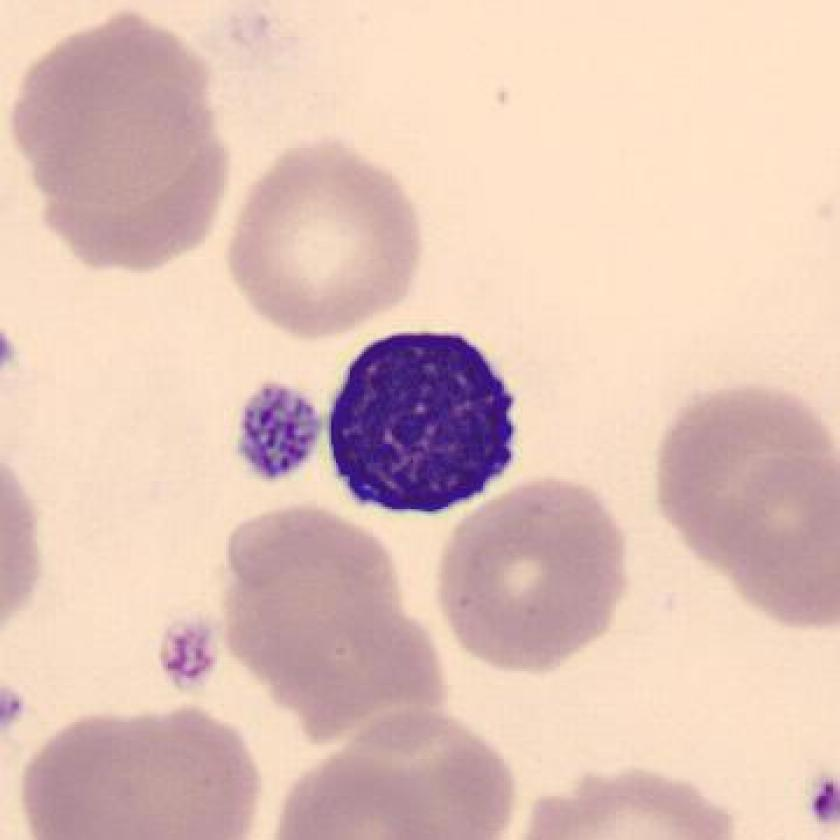lymphocyte: (314, 318, 535, 533)
